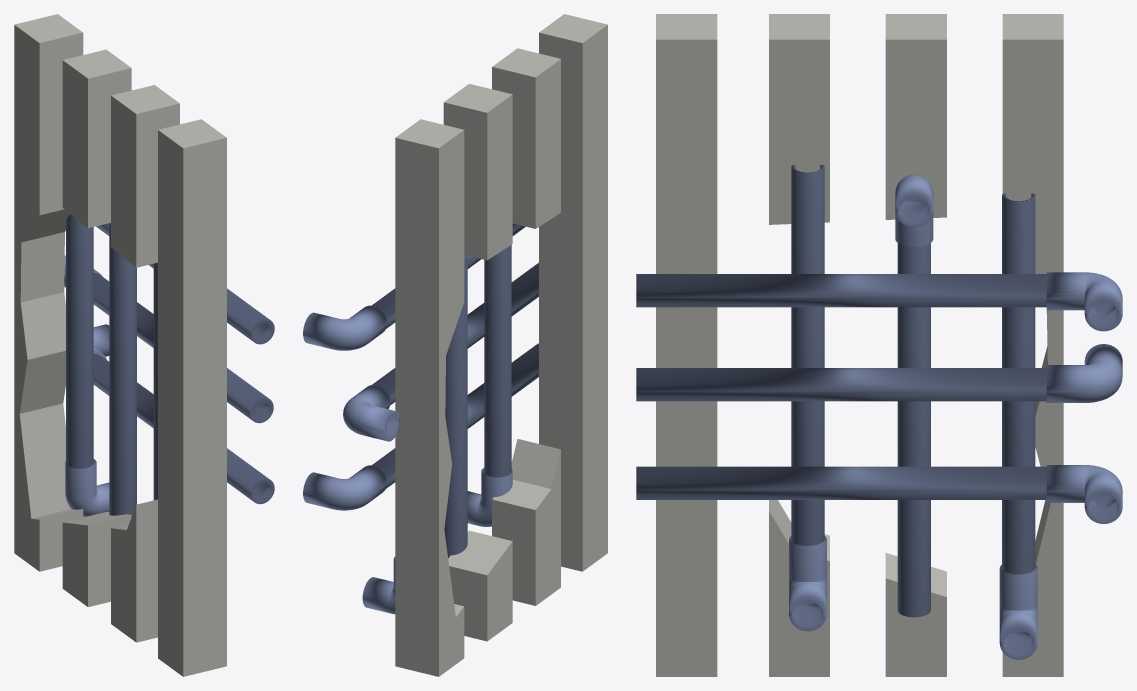
Rendered from Tunel_3.fbx.
3 views of the same model, side by side, from view 1: azimuth 30°, elevation 25°; view 2: azimuth 150°, elevation 25°; view 3: azimuth 270°, elevation 25° (orthographic). The views are drawn at different scales.
Parts seen in each view (by area): view 1: Cube.001; view 2: Cube.001; view 3: Cube.001.
Part boxes in pixels (bbox=[...]): Cube.001: bbox=[14, 14, 274, 676]; Cube.001: bbox=[303, 14, 607, 676]; Cube.001: bbox=[636, 14, 1122, 676].
Size of the model in its own units: 44.11 by 200 by 138.
